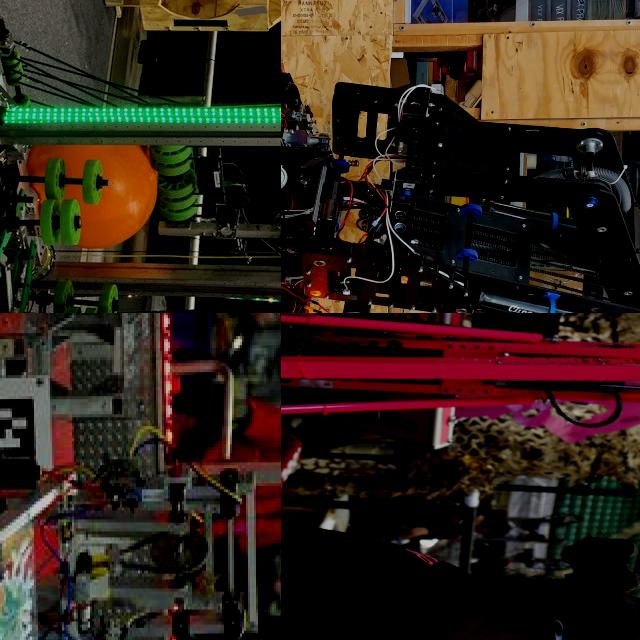FRC-Robots: (281, 0, 640, 313), (0, 0, 281, 313), (281, 313, 640, 553), (0, 313, 241, 640)
